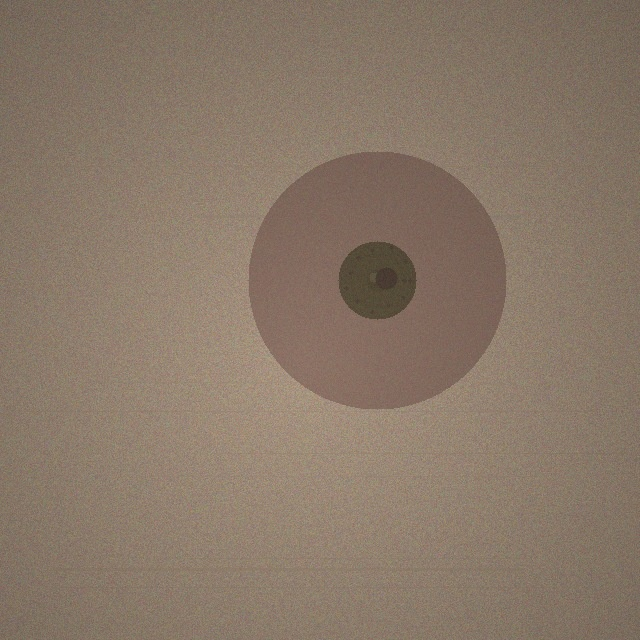cold_weld: (248, 151, 506, 409)
